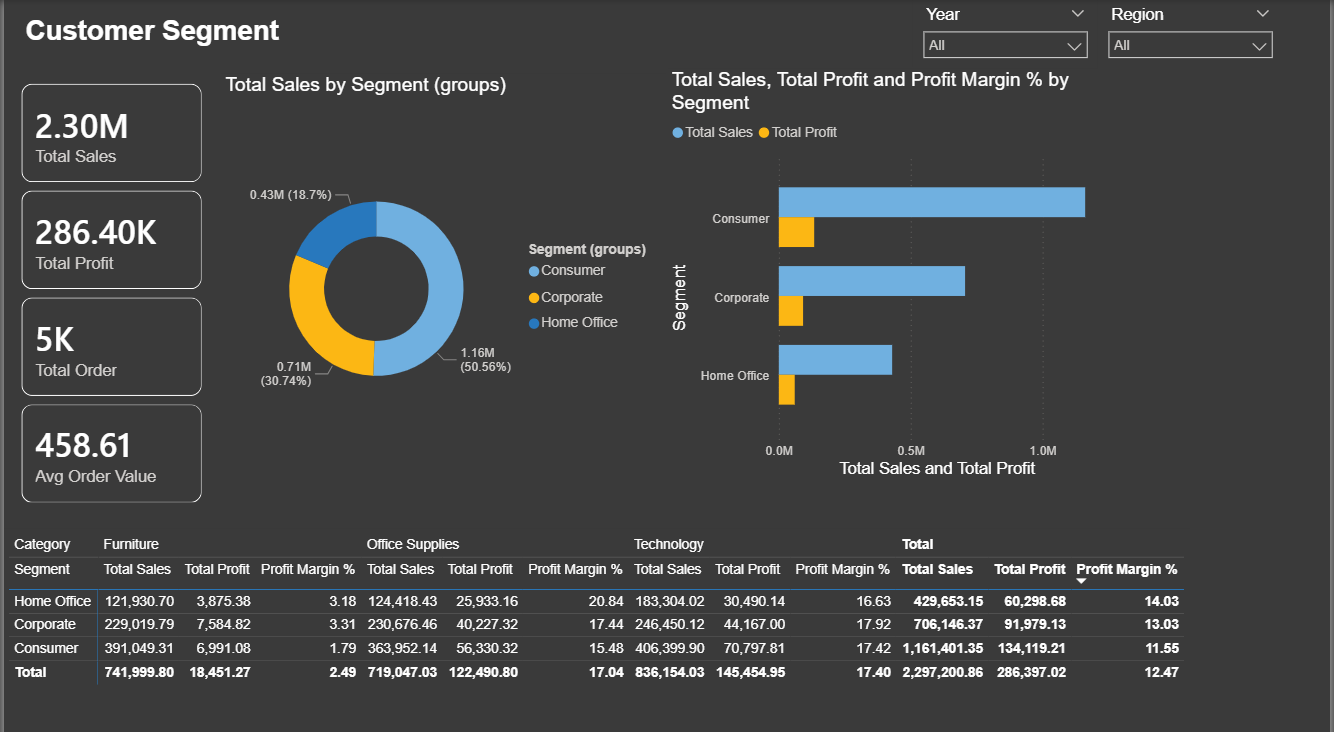

The dashboard page shown, as its layout file describes it:
{"tool":"powerbi","page":{"name":"Customer Segment","canvas":[1280,720],"ordinal":3},"visuals":[{"type":"donutChart","fields":{"Y":["Sample - Superstore.Total Sales"],"Category":["Dim_Customer.Segment (groups)"]},"box":[208.7,71.2,430.7,394.5],"z":0},{"type":"clusteredBarChart","fields":{"Category":["Dim_Customer.Segment"],"Y":["Sample - Superstore.Total Sales","Sample - Superstore.Total Profit"]},"box":[639.4,66.4,433.1,399.3],"z":1000},{"type":"pivotTable","fields":{"Rows":["Dim_Customer.Segment"],"Columns":["Dim_Products.Category"],"Values":["Sample - Superstore.Total Sales","Sample - Superstore.Total Profit","Sample - Superstore.Profit Margin %"]},"box":[0,510.3,1144.9,172.5],"z":2000},{"type":"cardVisual","fields":{"Data":["Sample - Superstore.Total Sales","Sample - Superstore.Total Profit","Sample - Superstore.Total Order","Sample - Superstore.Avg Order Value"]},"box":[0,63.9,208.7,440.4],"z":3000},{"type":"slicer","fields":{"Values":["Dim_Date.Year"]},"box":[877.1,0,178.6,63.9],"z":4000},{"type":"slicer","fields":{"Values":["Dim_Customer.Region"]},"box":[1055.6,0,178.6,66.4],"z":5000},{"type":"textbox","box":[15.7,9.7,267.8,44.6],"z":6000}]}

Visuals, with their boxes in screenshot pixels (x1, y1, x2, y2), scaled from the page's 1280x720 canvas onto the 1334x732 screenshot:
donutChart - Sample - Superstore.Total Sales x Dim_Customer.Segment (groups): locate(218, 72, 666, 473)
clusteredBarChart - Dim_Customer.Segment x Sample - Superstore.Total Sales: locate(666, 68, 1118, 473)
pivotTable - Dim_Customer.Segment x Dim_Products.Category: locate(0, 519, 1193, 694)
cardVisual - Sample - Superstore.Total Sales x Sample - Superstore.Total Profit: locate(0, 65, 218, 513)
slicer - Dim_Date.Year: locate(914, 0, 1100, 65)
slicer - Dim_Customer.Region: locate(1100, 0, 1286, 68)
textbox: locate(16, 10, 295, 55)
